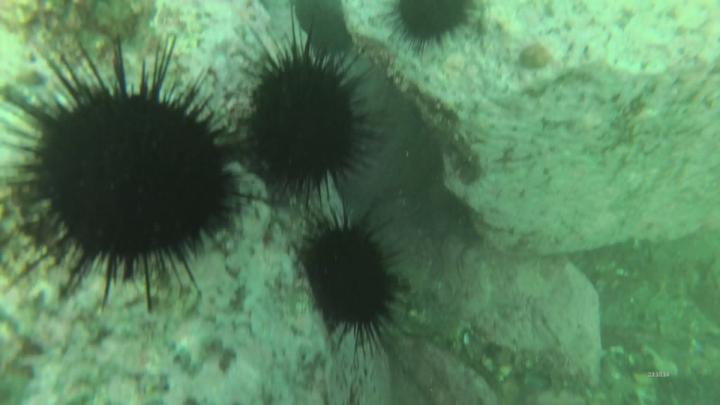echinus: (2, 30, 263, 319), (230, 1, 387, 204), (302, 214, 400, 348), (385, 1, 485, 56)
